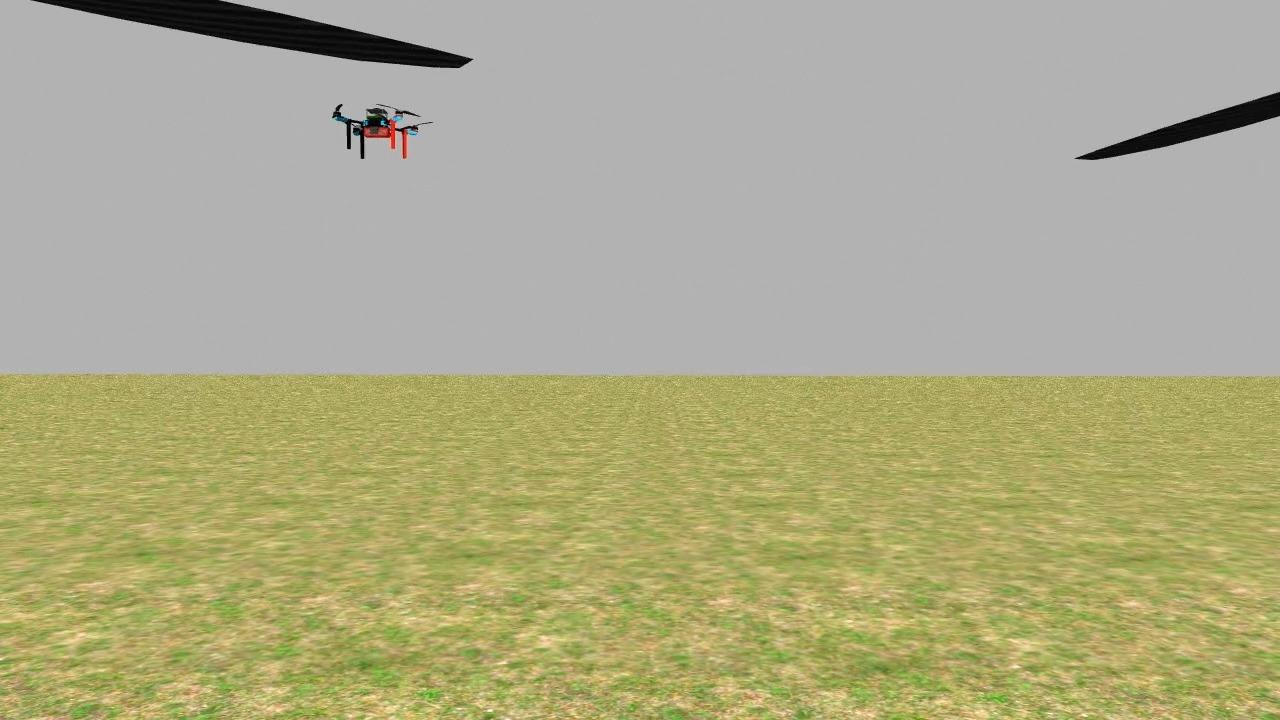UAV: (307, 89, 453, 180)
